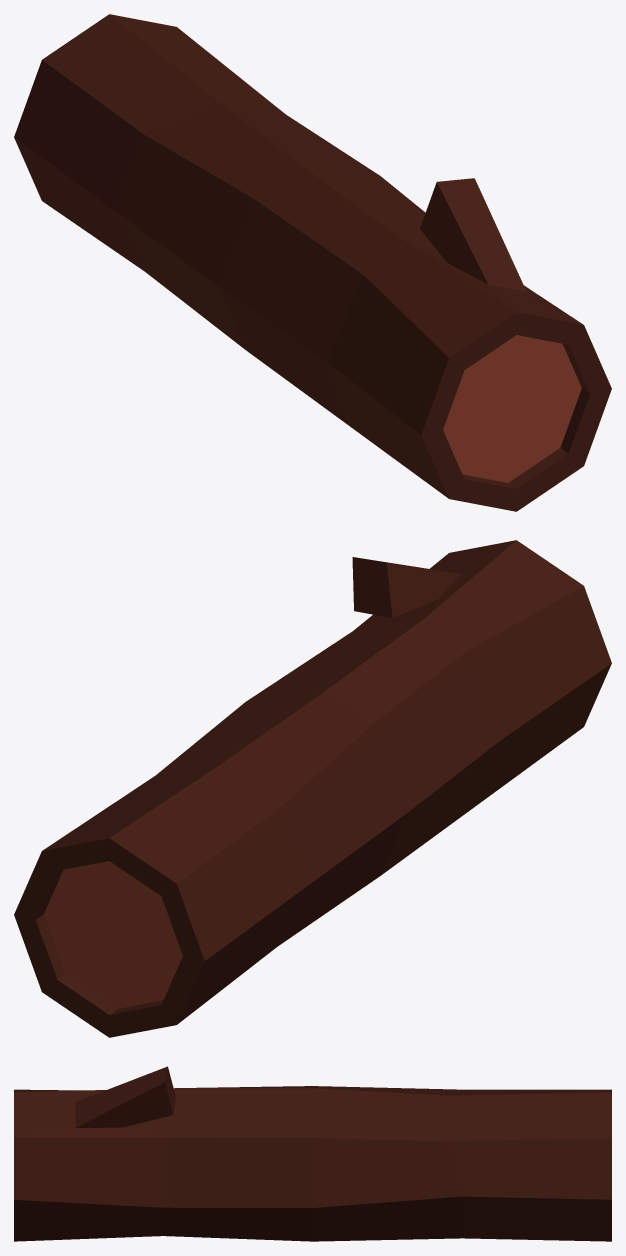
The model's file is log_7b.fbx.
3 views of the same model, one above another, from view 1: azimuth 30°, elevation 25°; view 2: azimuth 150°, elevation 25°; view 3: azimuth 270°, elevation 25° (orthographic). The views are drawn at different scales.
Visible parts, largest first — view 1: log_7b; view 2: log_7b; view 3: log_7b.
Boxes of the visible parts, x1,y1,x2,y2 form: log_7b: (14,14,611,511); log_7b: (14,540,611,1037); log_7b: (14,1066,611,1241).
Size of the model in its own units: 53.77 by 65.85 by 197.
